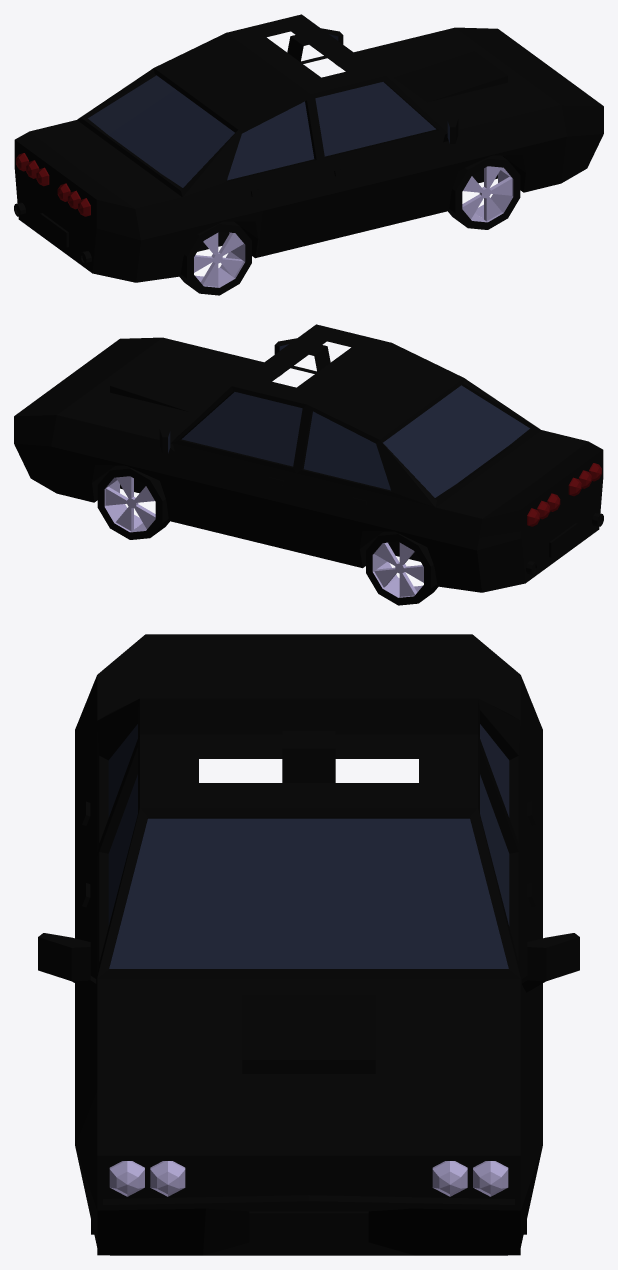
File: coupe2.glb
3 views of the same model, one above another, from view 1: azimuth 30°, elevation 25°; view 2: azimuth 150°, elevation 25°; view 3: azimuth 270°, elevation 25° (orthographic). The views are drawn at different scales.
Visible parts, largest first — view 1: body_paint, body_glass, wheel_rr_rim (×2), wheel_fr_tire (×2), wheel_fr_rim, wheel_rr_tire, body_tail; view 2: body_paint, body_glass, wheel_rl_rim (×2), wheel_fl_tire (×2), wheel_fl_rim, wheel_rl_tire, body_tail; view 3: body_paint, body_glass, body_lamp.
Boxes of the visible parts, <box> form: body_paint: <box>14,14,603,282</box>; body_glass: <box>88,34,449,187</box>; wheel_rr_rim (×2): <box>194,232,245,287</box>; wheel_fr_tire (×2): <box>448,155,520,229</box>; wheel_fr_rim: <box>462,166,513,222</box>; wheel_rr_tire: <box>184,223,251,295</box>; body_tail: <box>16,153,90,216</box>; body_paint: <box>14,324,603,592</box>; body_glass: <box>168,344,529,497</box>; wheel_rl_rim (×2): <box>372,542,423,597</box>; wheel_fl_tire (×2): <box>97,465,169,539</box>; wheel_fl_rim: <box>104,476,155,532</box>; wheel_rl_tire: <box>366,533,433,605</box>; body_tail: <box>527,463,601,526</box>; body_paint: <box>38,634,579,1255</box>; body_glass: <box>108,724,509,968</box>; body_lamp: <box>109,1161,508,1196</box>.
Bounding box in the file's own units: 6.06 × 2.09 × 2.81.
